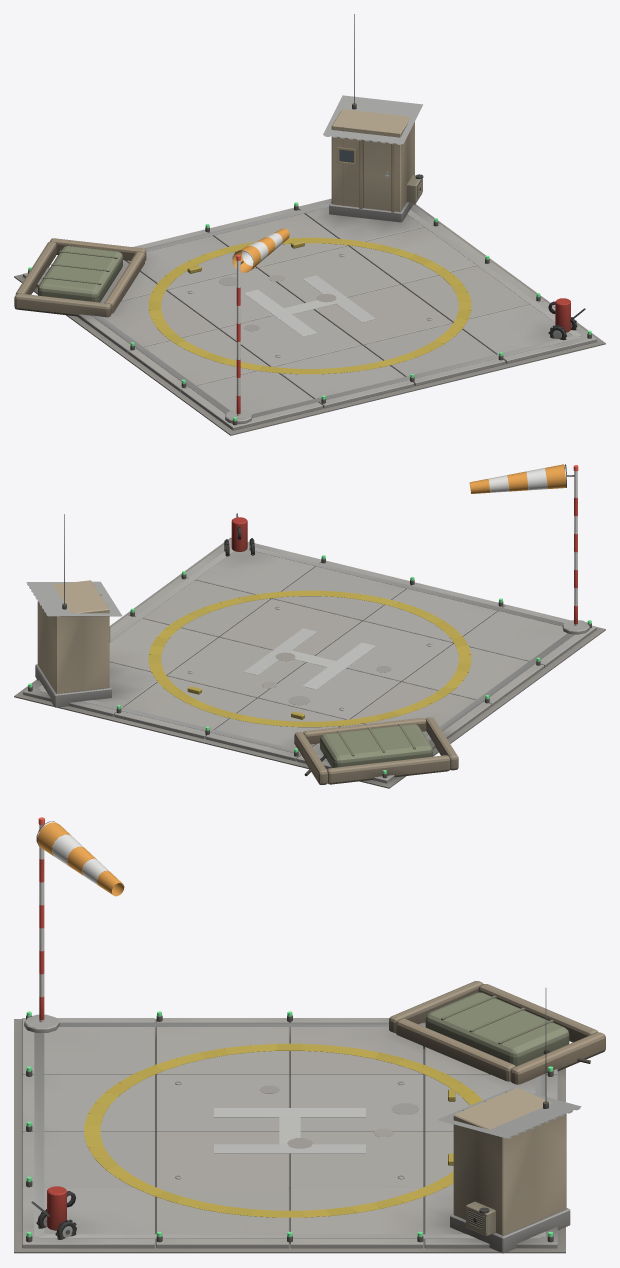
Rendered from struct_helipad_usa.glb.
3 views of the same model, one above another, from view 1: azimuth 30°, elevation 25°; view 2: azimuth 150°, elevation 25°; view 3: azimuth 270°, elevation 25° (orthographic). The views are drawn at different scales.
Parts seen in each view (by area): view 1: struct_helipad_usa; view 2: struct_helipad_usa; view 3: struct_helipad_usa.
Part boxes in pixels (bbox=[...]): struct_helipad_usa: bbox=[14, 14, 605, 435]; struct_helipad_usa: bbox=[14, 464, 605, 788]; struct_helipad_usa: bbox=[14, 817, 605, 1253].
Bounding box in the file's own units: 12.21 × 5.21 × 11.69.
